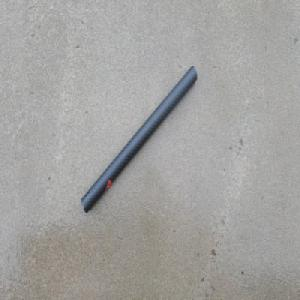LuggagePart: (81, 64, 197, 215)
